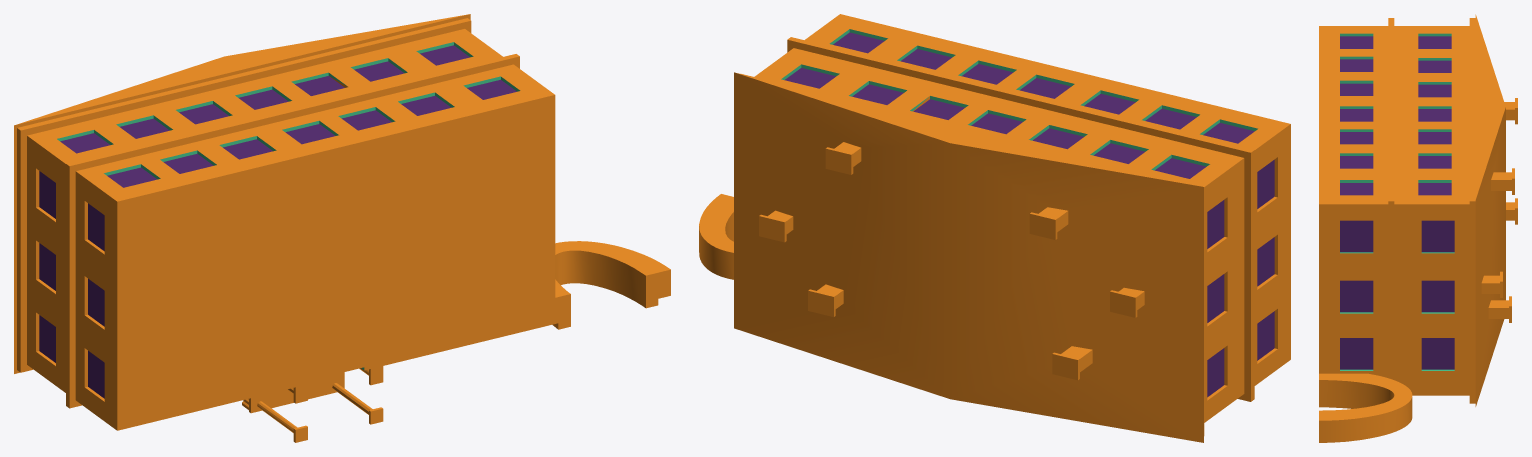
The model's file is Loża MasońskaV2.fbx.
3 views of the same model, side by side, from view 1: azimuth 30°, elevation 25°; view 2: azimuth 150°, elevation 25°; view 3: azimuth 270°, elevation 25° (orthographic). The views are drawn at different scales.
Parts seen in each view (by area): view 1: Loża_Masońska_obj_0; view 2: Loża_Masońska_obj_0; view 3: Loża_Masońska_obj_0.
Boxes of the visible parts, x1,y1,x2,y2 form: Loża_Masońska_obj_0: (14, 14, 670, 442); Loża_Masońska_obj_0: (699, 14, 1290, 442); Loża_Masońska_obj_0: (1319, 14, 1517, 442).
Size of the model in its own units: 35.77 by 17.88 by 13.12.
Materials: 1 (1 with a texture image).
